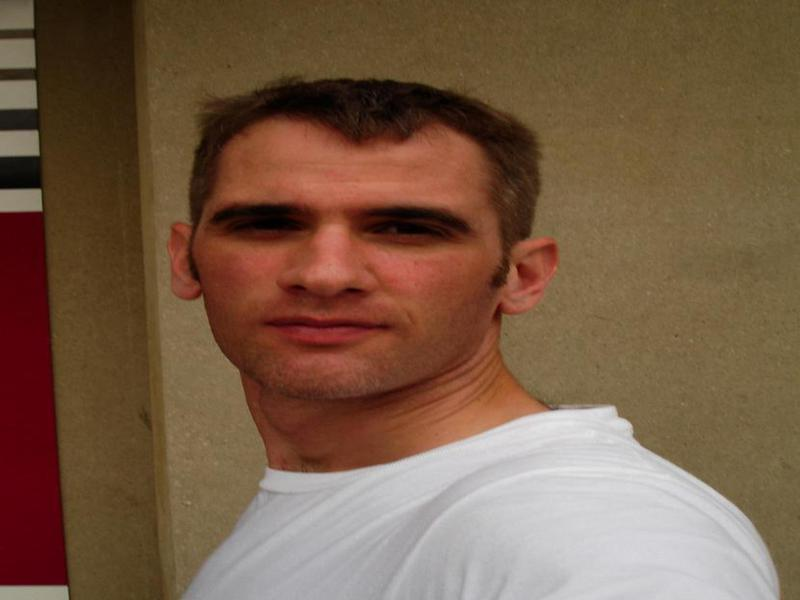person: (162, 63, 780, 600)
